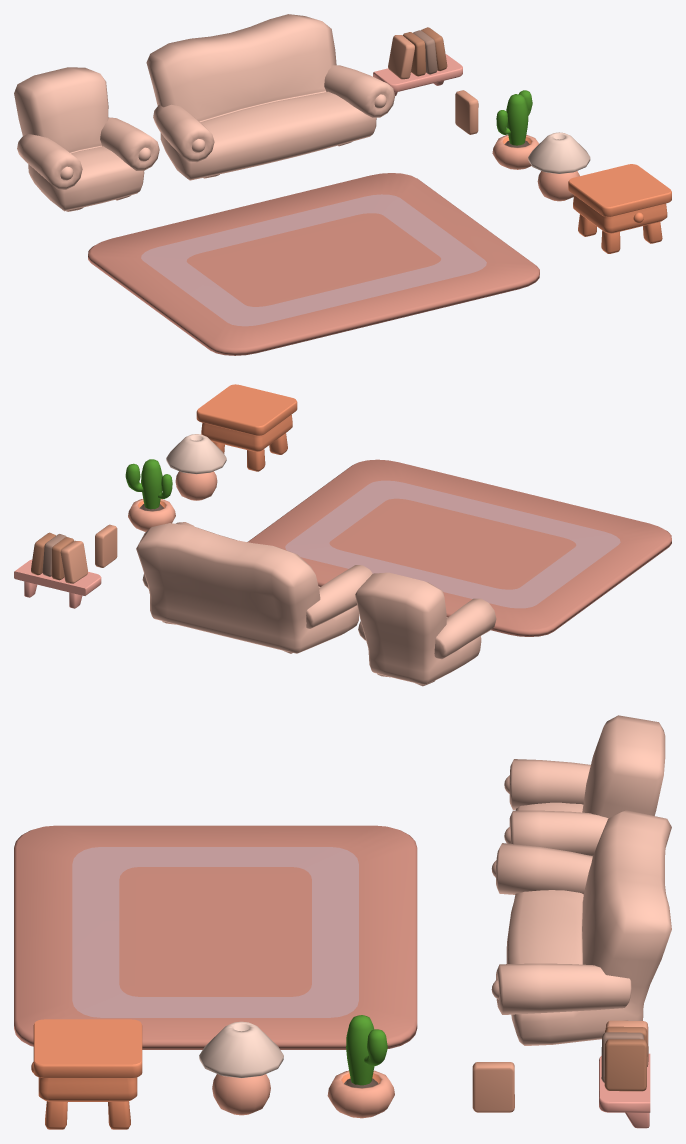
File: assetpack_home.glb
The picture shows the model from 3 angles, top to bottom: view 1: azimuth 30°, elevation 25°; view 2: azimuth 150°, elevation 25°; view 3: azimuth 270°, elevation 25°; orthographic projection. The views are drawn at different scales.
Visible parts, largest first — view 1: carpet, sofa 2, sofa 1, table, shelf, lamp, plant, book; view 2: carpet, sofa 2, sofa 1, table, shelf, lamp, plant, book; view 3: carpet, sofa 2, sofa 1, table, lamp, shelf, plant, book.
Boxes of the visible parts, x1,y1,x2,y2 form: carpet: (88,173,539,355); sofa 2: (146,14,394,180); sofa 1: (14,67,159,211); table: (568,164,671,253); shelf: (373,27,462,95); lamp: (528,132,590,201); plant: (492,90,538,169); book: (455,90,478,134); carpet: (247,459,671,636); sofa 2: (136,522,372,653); sofa 1: (355,572,496,686); table: (196,384,297,471); shelf: (14,532,101,608); lamp: (166,434,226,500); plant: (125,459,175,531); book: (95,524,117,567); carpet: (14,825,417,1049); sofa 2: (491,810,671,1045); sofa 1: (504,715,665,856); table: (31,1019,142,1129); lamp: (199,1021,283,1115); shelf: (599,1020,650,1128); plant: (327,1015,394,1118); book: (472,1062,514,1112).
Size of the model in its own units: 6.47 by 1.43 by 5.93.
